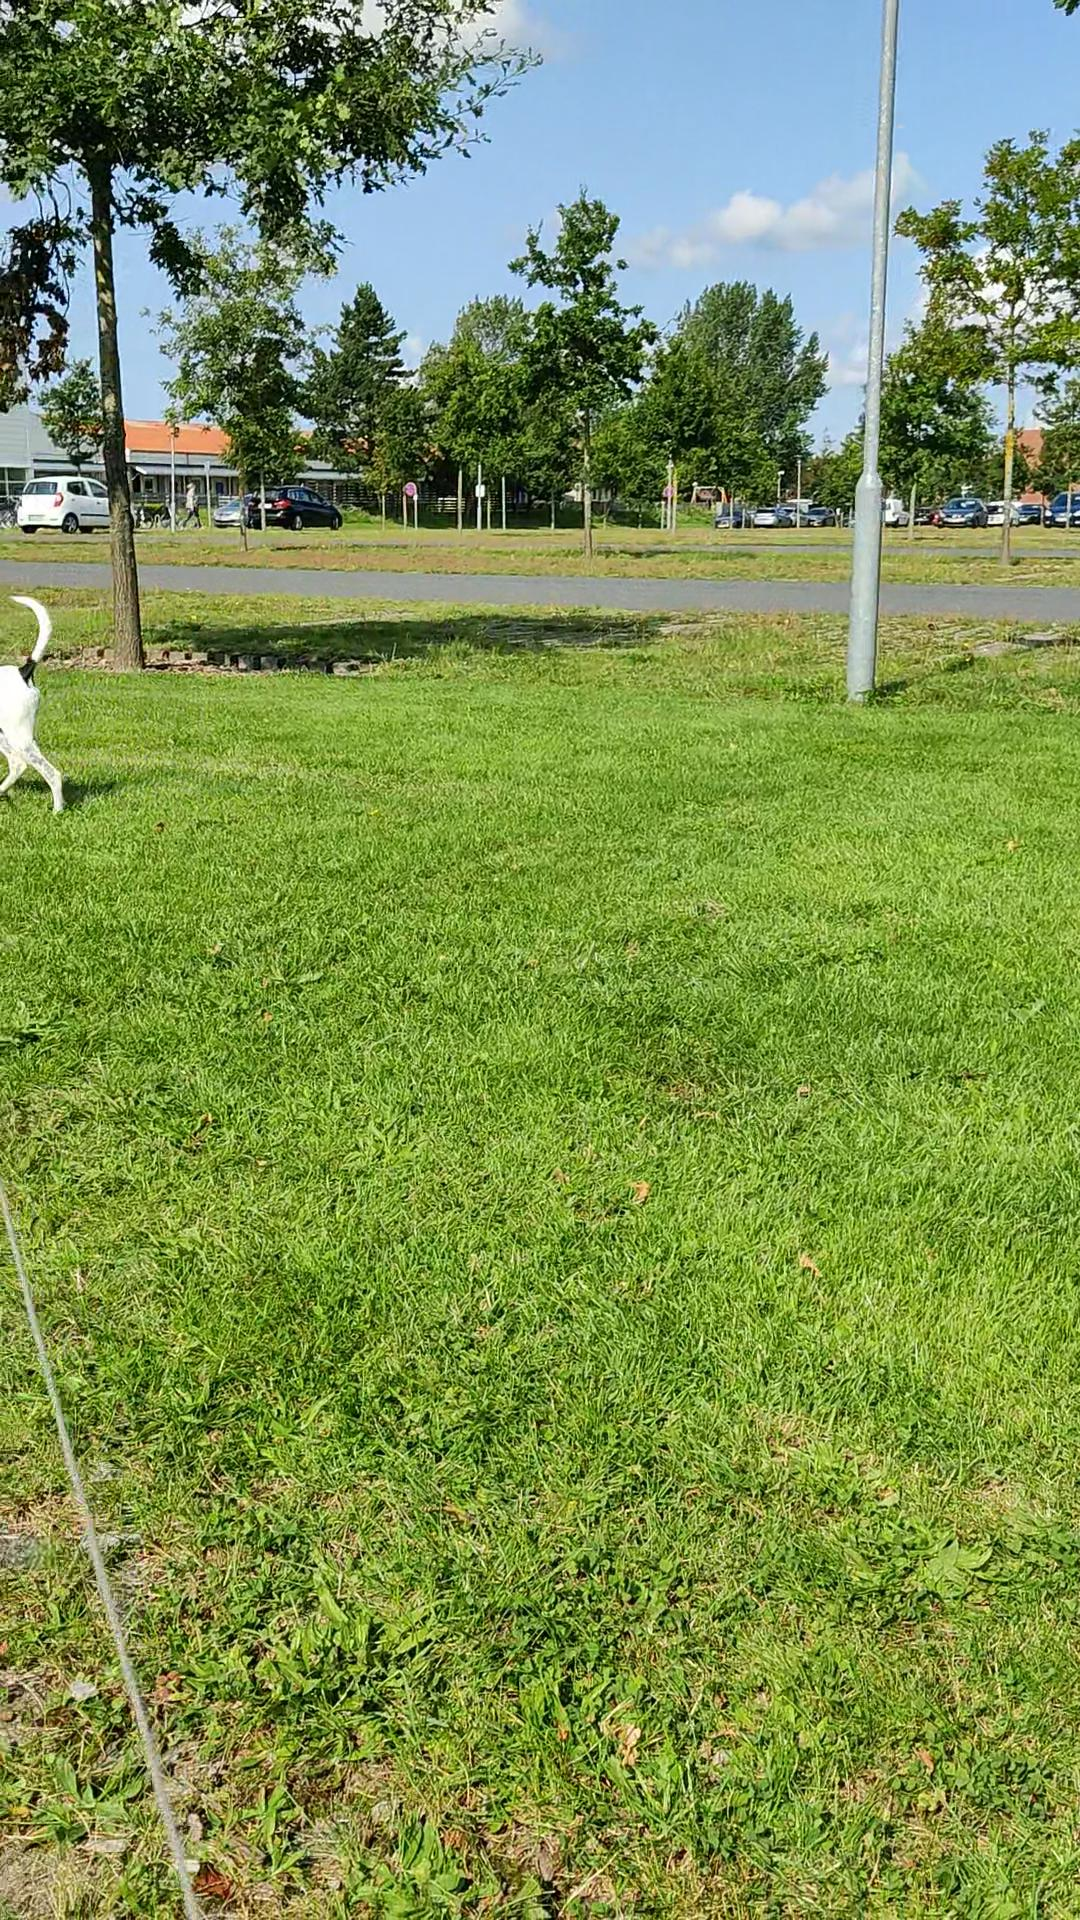Dog: (0, 583, 83, 825)
